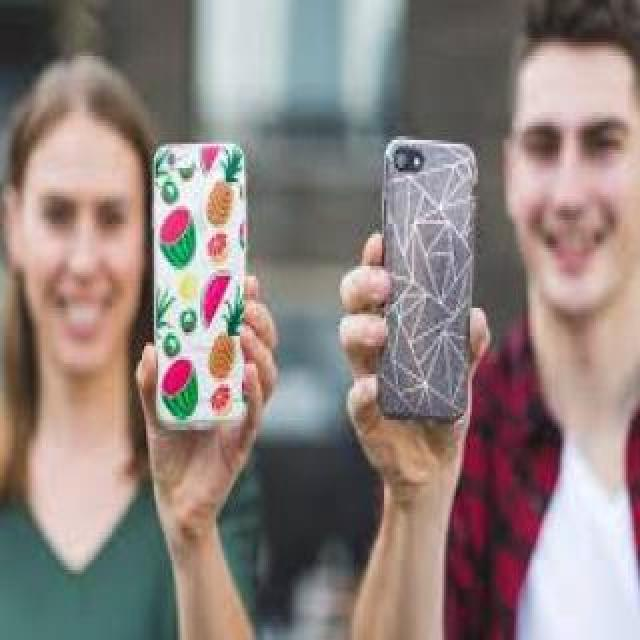smart phone: (362, 124, 488, 448), (142, 124, 262, 458)
